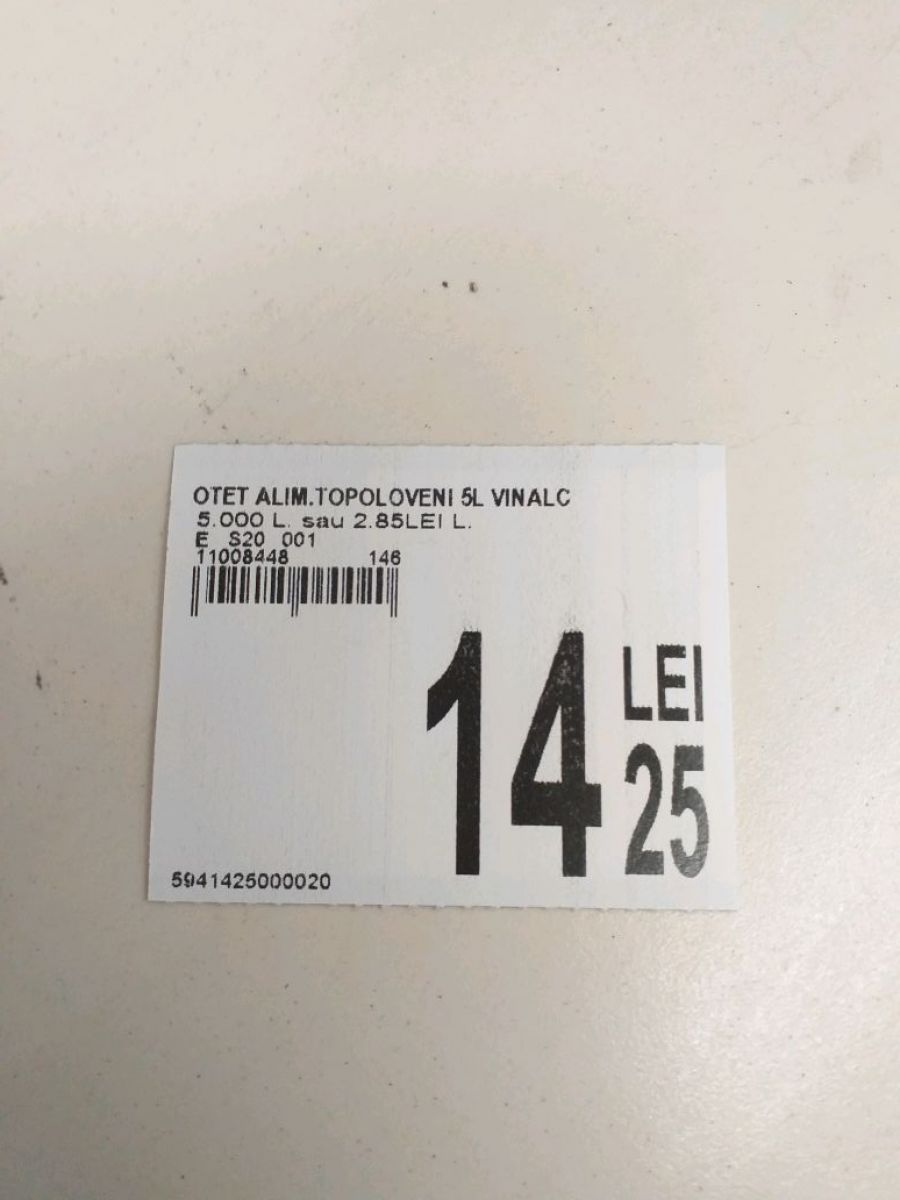price_bani: (613, 733, 724, 886)
price_lei: (407, 613, 613, 888)
price_tag: (119, 419, 786, 943)
product_id: (154, 861, 352, 899)
product_name: (178, 475, 590, 514)
